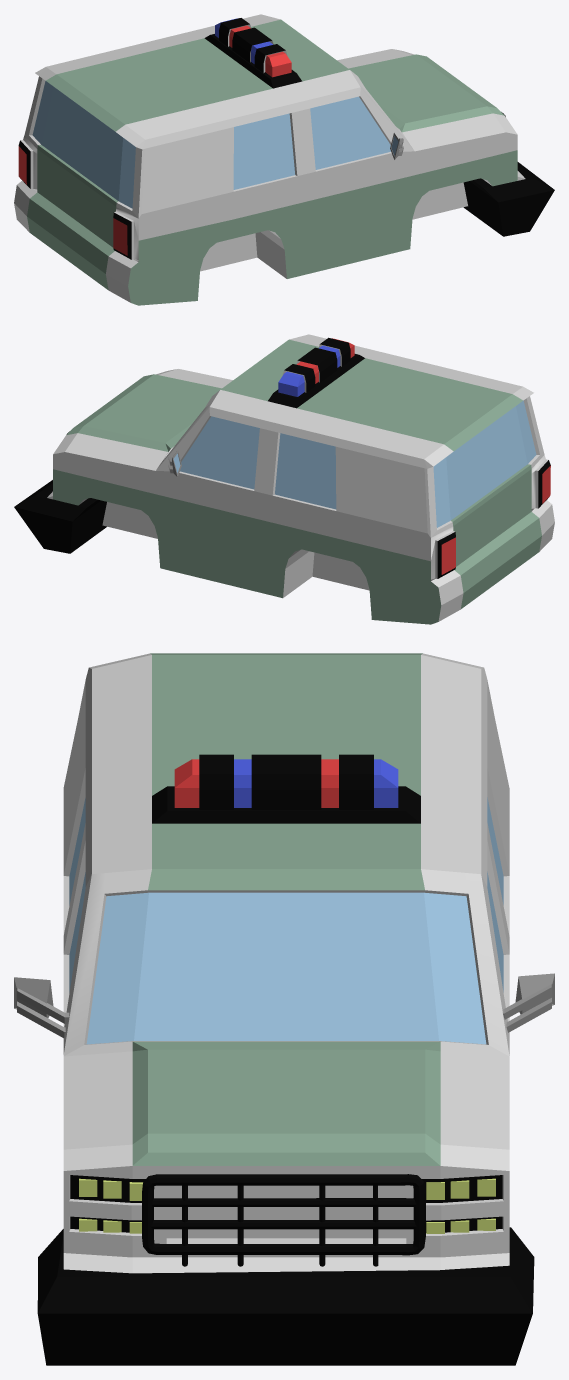
File: PolizeiJeep.fbx
3 views of the same model, one above another, from view 1: azimuth 30°, elevation 25°; view 2: azimuth 150°, elevation 25°; view 3: azimuth 270°, elevation 25° (orthographic). The views are drawn at different scales.
Parts seen in each view (by area): view 1: PolizeiJeep; view 2: PolizeiJeep; view 3: PolizeiJeep.
Part boxes in pixels (x1,y1,x2,y2): PolizeiJeep: (14, 14, 554, 305); PolizeiJeep: (14, 334, 554, 624); PolizeiJeep: (14, 653, 554, 1365).
Bounding box in the file's own units: 14.69 × 8.24 × 6.65.
